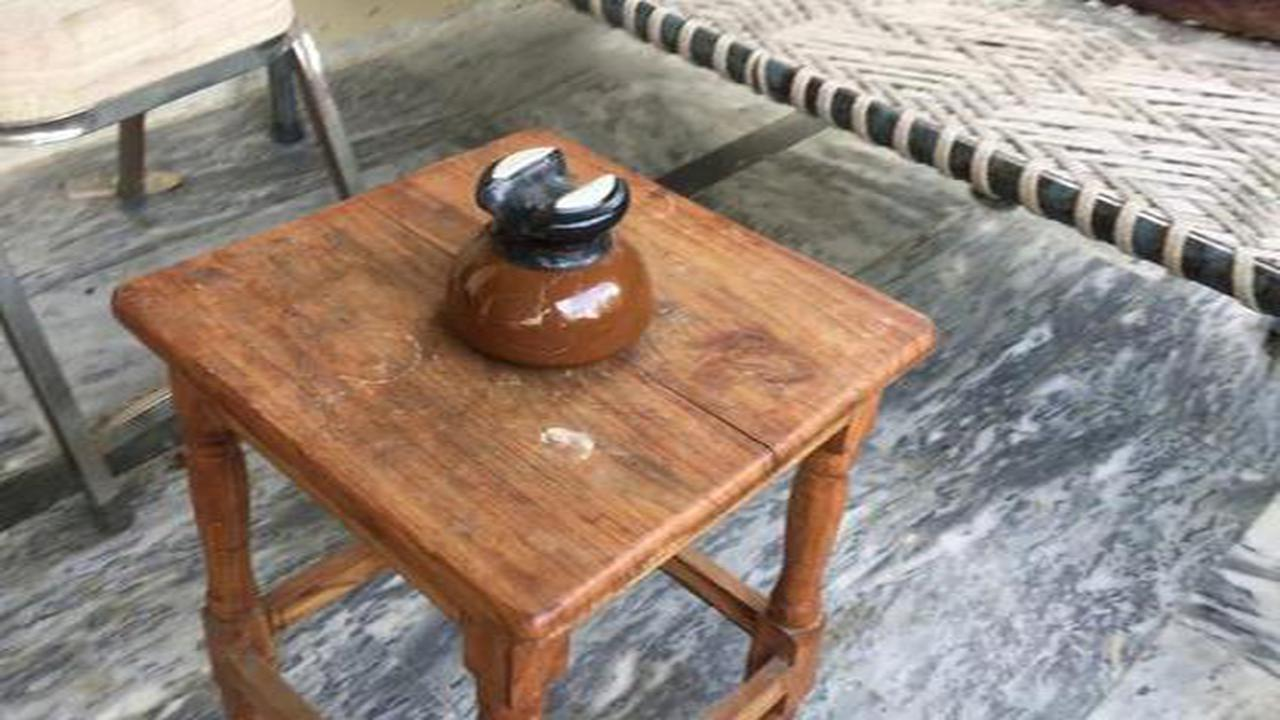insulator_pin: (434, 129, 662, 383)
